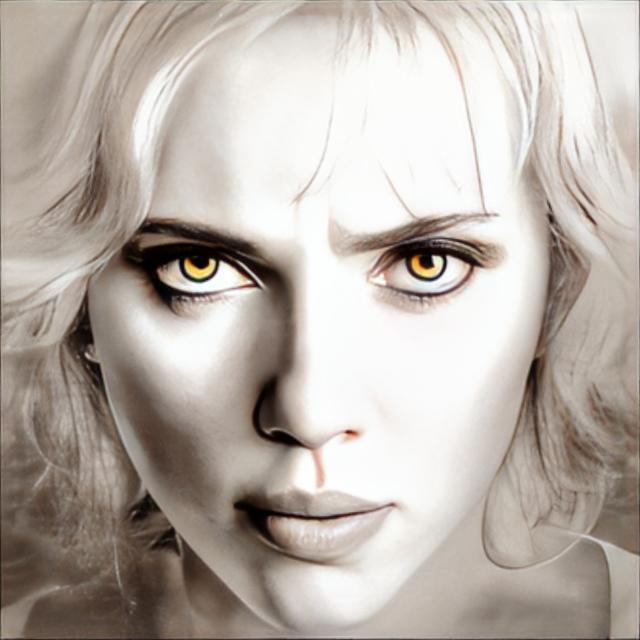anger: (83, 22, 544, 638)
